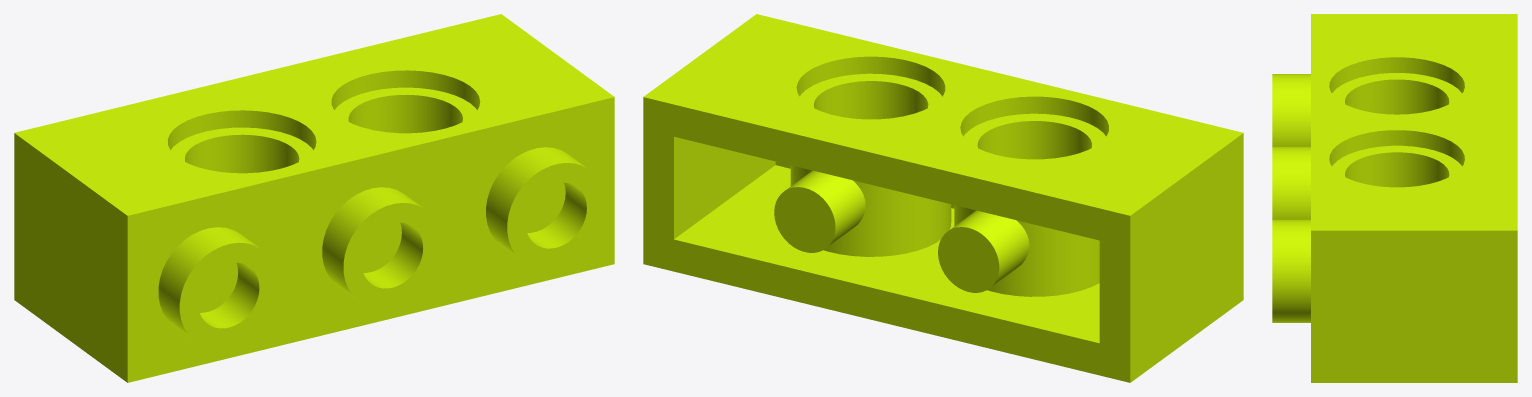
File: technic_brick_3_green.glb
3 views of the same model, side by side, from view 1: azimuth 30°, elevation 25°; view 2: azimuth 150°, elevation 25°; view 3: azimuth 270°, elevation 25° (orthographic). The views are drawn at different scales.
Visible parts, largest first — view 1: base; view 2: base; view 3: base.
Boxes of the visible parts, left/top/right/bottom form: base: left=14, top=14, right=614, bottom=382; base: left=643, top=14, right=1243, bottom=382; base: left=1272, top=14, right=1517, bottom=382.
Size of the model in its own units: 0.0238 by 0.0078 by 0.0114.
